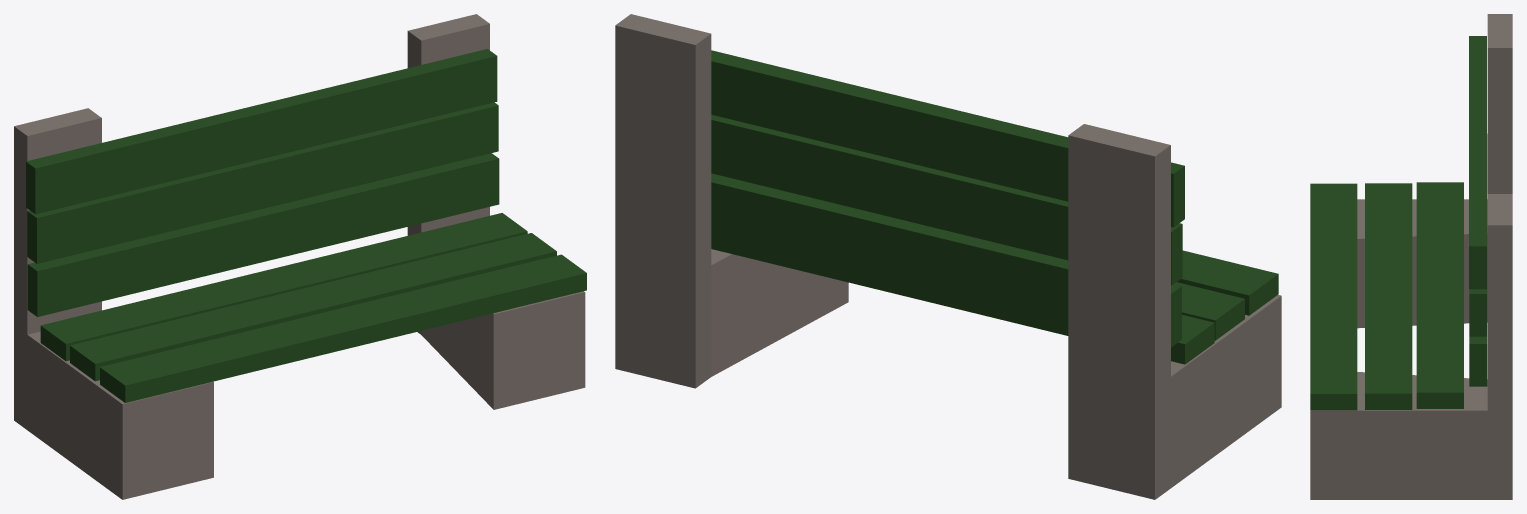
File: Bench.fbx
The picture shows the model from 3 angles, left to right: view 1: azimuth 30°, elevation 25°; view 2: azimuth 150°, elevation 25°; view 3: azimuth 270°, elevation 25°; orthographic projection. The views are drawn at different scales.
Parts seen in each view (by area): view 1: Bench; view 2: Bench; view 3: Bench.
Part boxes in pixels (<box>): Bench: <box>14,14,586,499</box>; Bench: <box>615,14,1281,499</box>; Bench: <box>1310,14,1512,499</box>.
Bounding box in the file's own units: 473 × 286 × 191.
